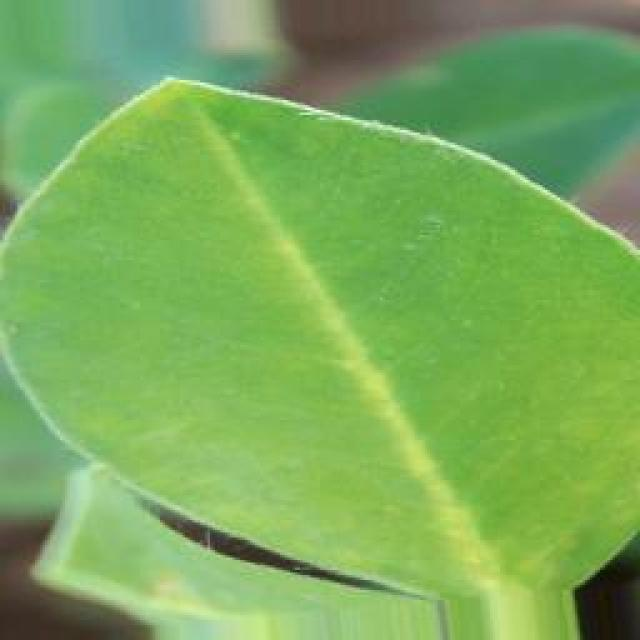Yellow_and_black_sigatoka: (0, 75, 640, 586)
